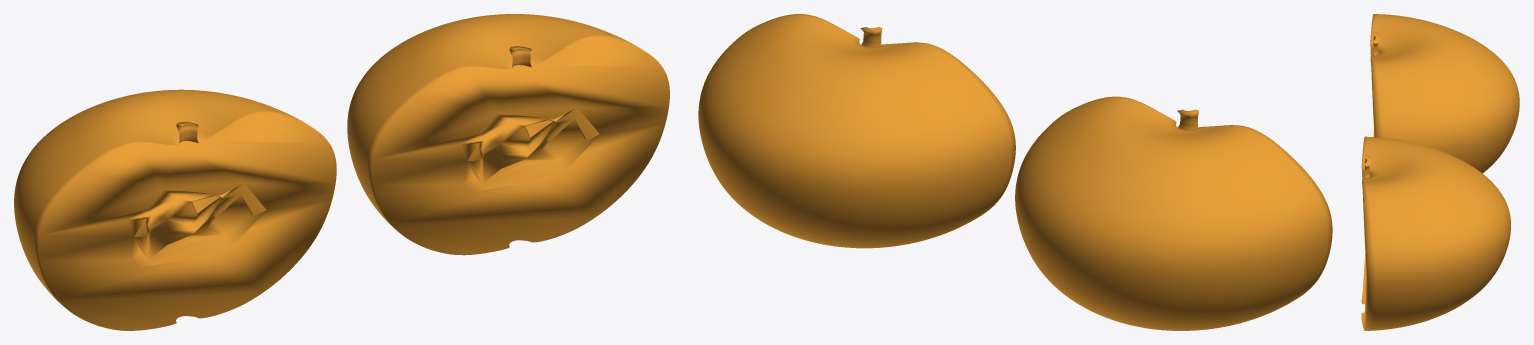
File: Kalabasa_Halves.glb
3 renders of one model, left to right at view 1: azimuth 30°, elevation 25°; view 2: azimuth 150°, elevation 25°; view 3: azimuth 270°, elevation 25°, orthographic. The views are drawn at different scales.
Visible parts, largest first — view 1: Sphere.001, Sphere; view 2: Sphere.001, Sphere; view 3: Sphere.001, Sphere.
Boxes of the visible parts, x1,y1,x2,y2 form: Sphere.001: (347,14,669,255); Sphere: (14,89,336,330); Sphere.001: (698,14,1015,248); Sphere: (1015,96,1332,330); Sphere.001: (1361,136,1510,330); Sphere: (1370,14,1519,173).
Size of the model in its own units: 4.97 by 1.5 by 1.42.
